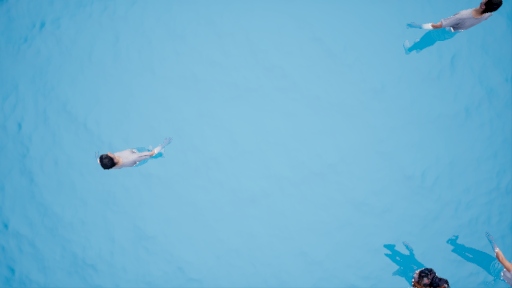person: (392, 2, 507, 55), (374, 234, 458, 288), (89, 135, 182, 178), (449, 228, 512, 283)
